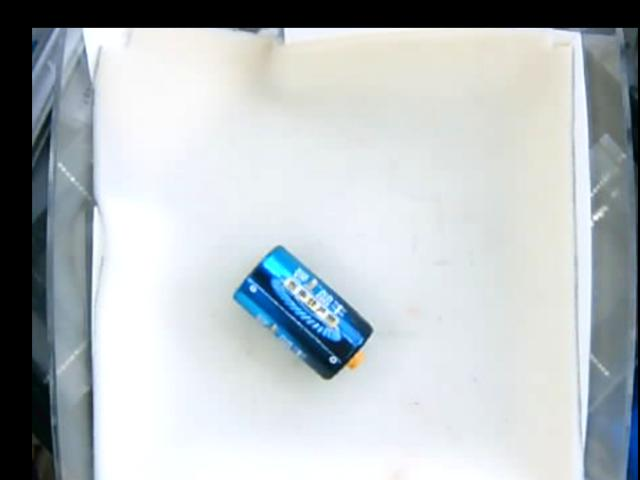Battery: (232, 245, 374, 380)
